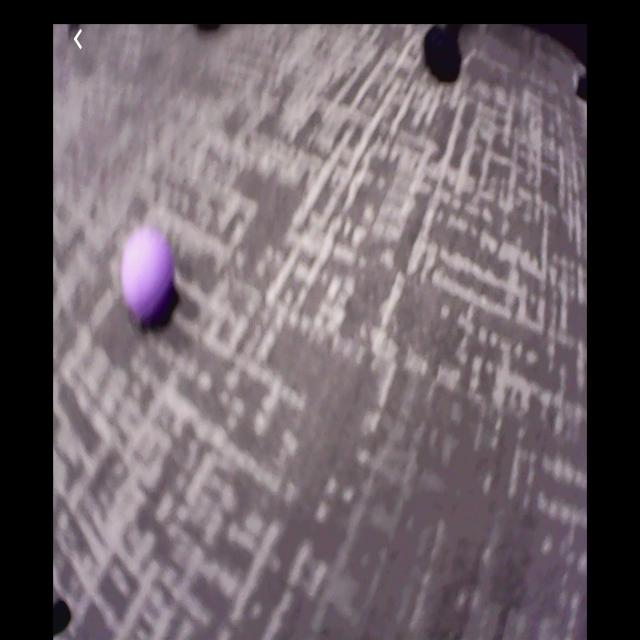ball: (123, 231, 176, 322)
